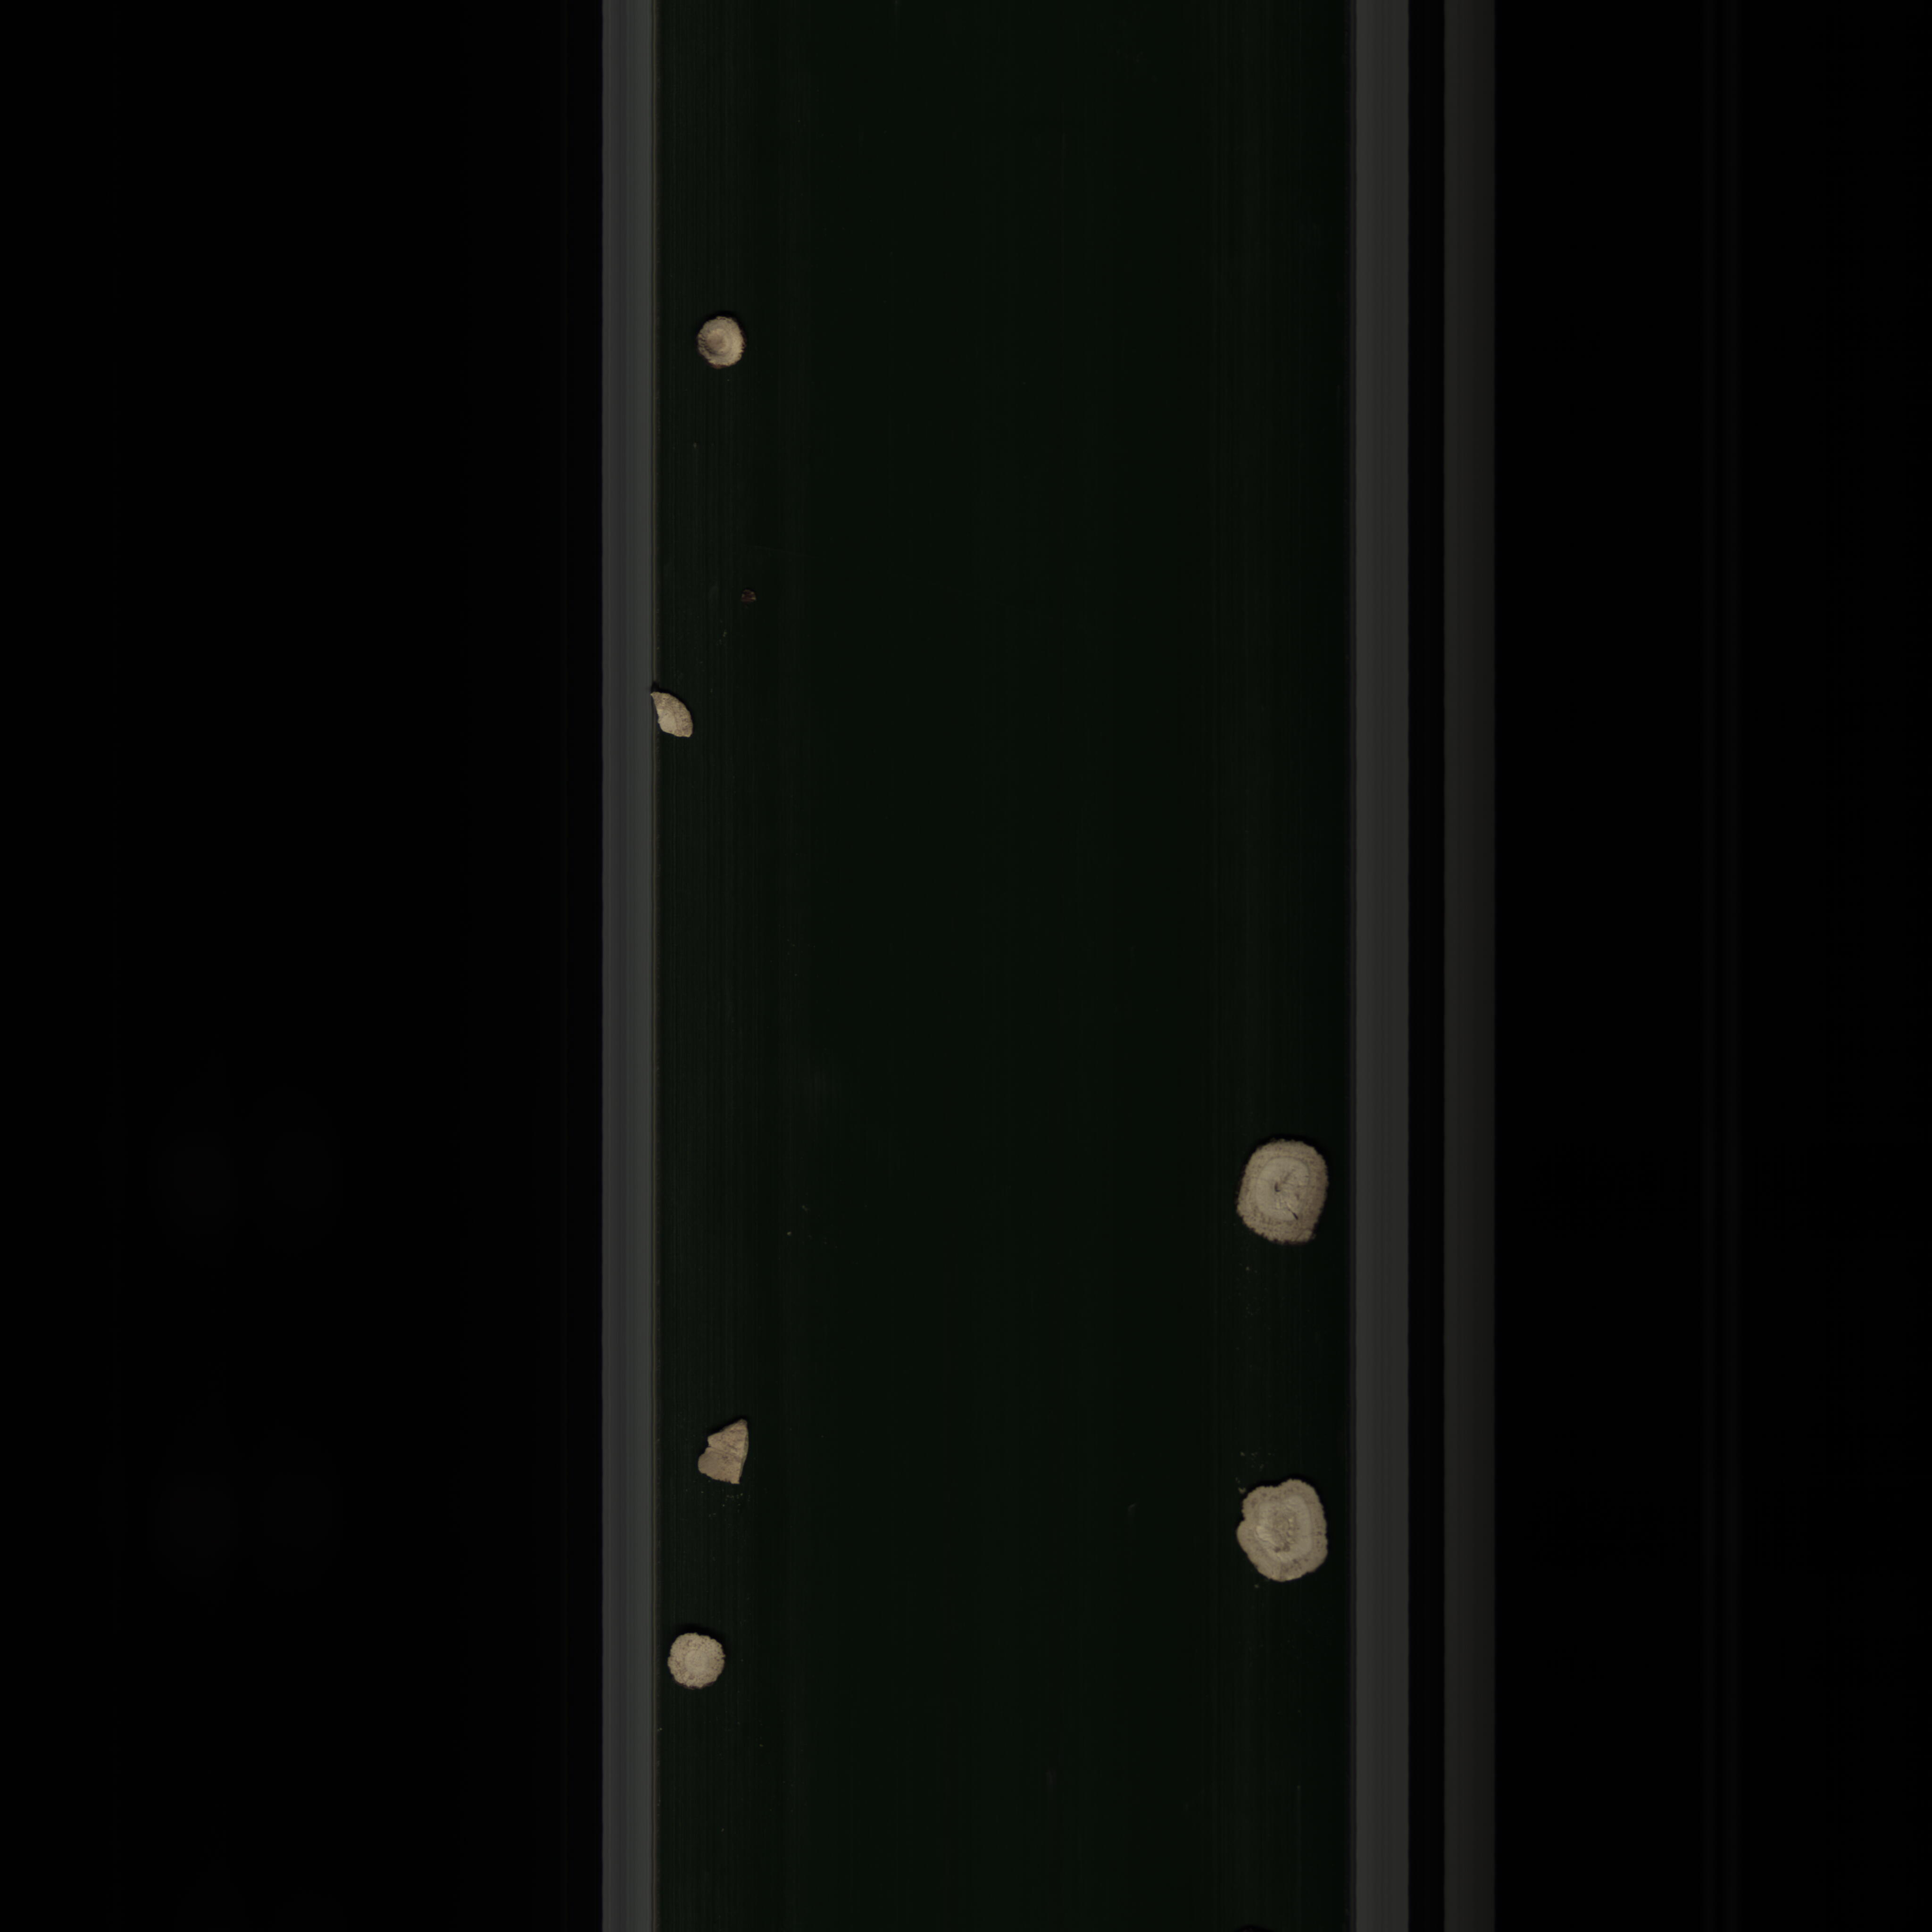debris: (686, 1415, 777, 1499), (642, 679, 699, 750)
moldy: (692, 315, 754, 375)
